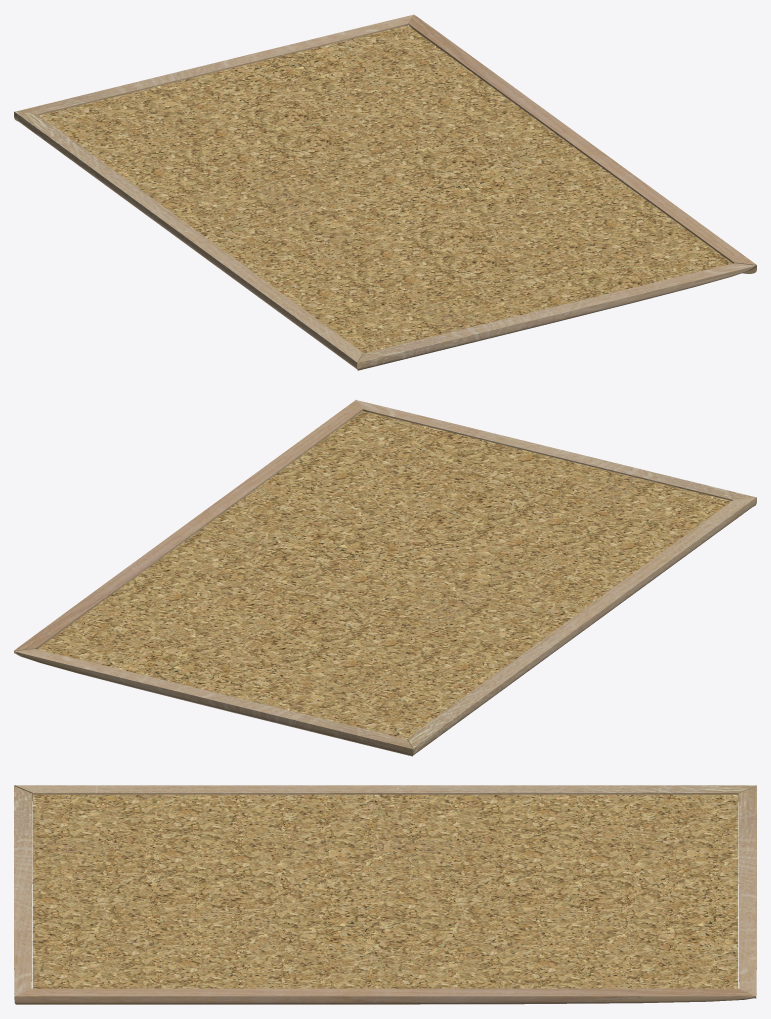
Rendered from 10928_Corkboard_v3_L3.obj.
3 renders of one model, top to bottom at view 1: azimuth 30°, elevation 25°; view 2: azimuth 150°, elevation 25°; view 3: azimuth 270°, elevation 25°, orthographic. The views are drawn at different scales.
Visible parts, largest first — view 1: default; view 2: default; view 3: default.
Part boxes in pixels (x1=…): default: x1=14, y1=14, x2=756, y2=370; default: x1=14, y1=399, x2=756, y2=756; default: x1=14, y1=785, x2=756, y2=1004.
Size of the model in its own units: 6.14 by 0.1564 by 9.13.
Materials: 1 (1 with a texture image).
